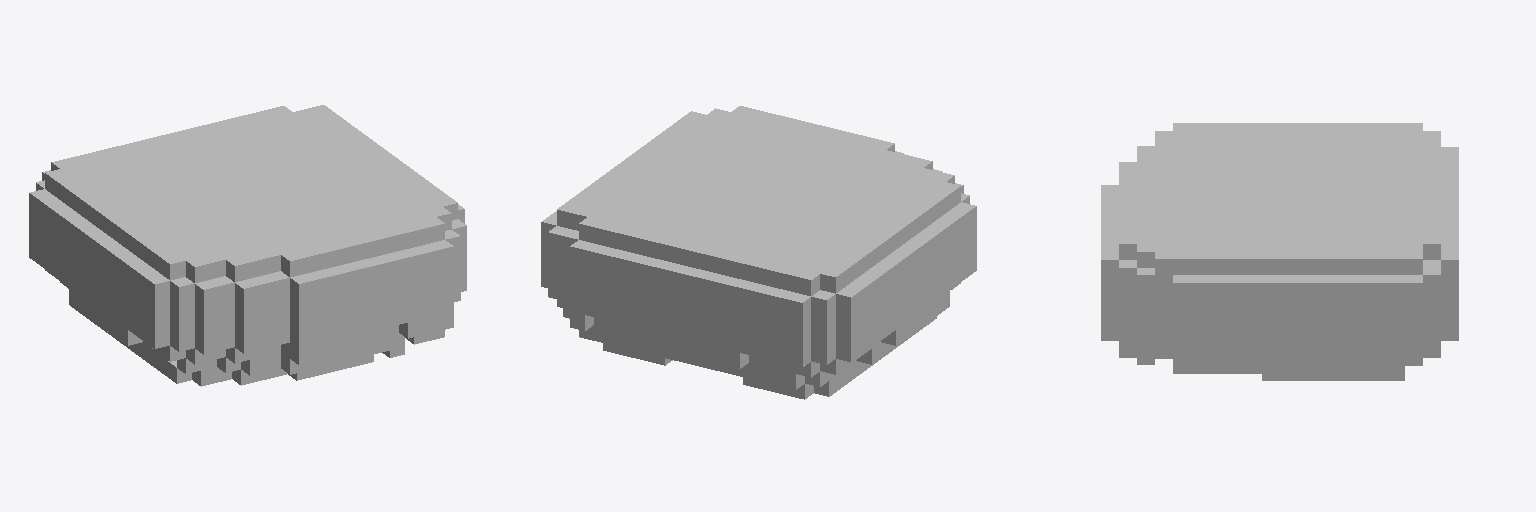
The model's file is ground10.obj.
3 views of the same model, side by side, from view 1: azimuth 30°, elevation 25°; view 2: azimuth 150°, elevation 25°; view 3: azimuth 270°, elevation 25° (orthographic).
Parts seen in each view (by area): view 1: ObjObject.010; view 2: ObjObject.010; view 3: ObjObject.010.
Part boxes in pixels (bbox=[...]): ObjObject.010: bbox=[29, 105, 466, 386]; ObjObject.010: bbox=[541, 106, 976, 399]; ObjObject.010: bbox=[1101, 123, 1458, 380].
Size of the model in its own units: 2 by 0.8 by 2.